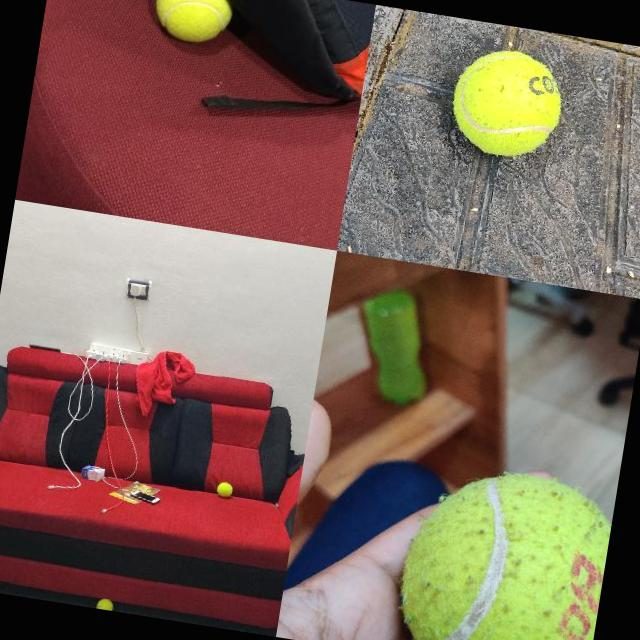Tennis Ball: (387, 456, 616, 640), (444, 40, 568, 164), (148, 0, 201, 42), (216, 480, 233, 498), (96, 596, 114, 610)
